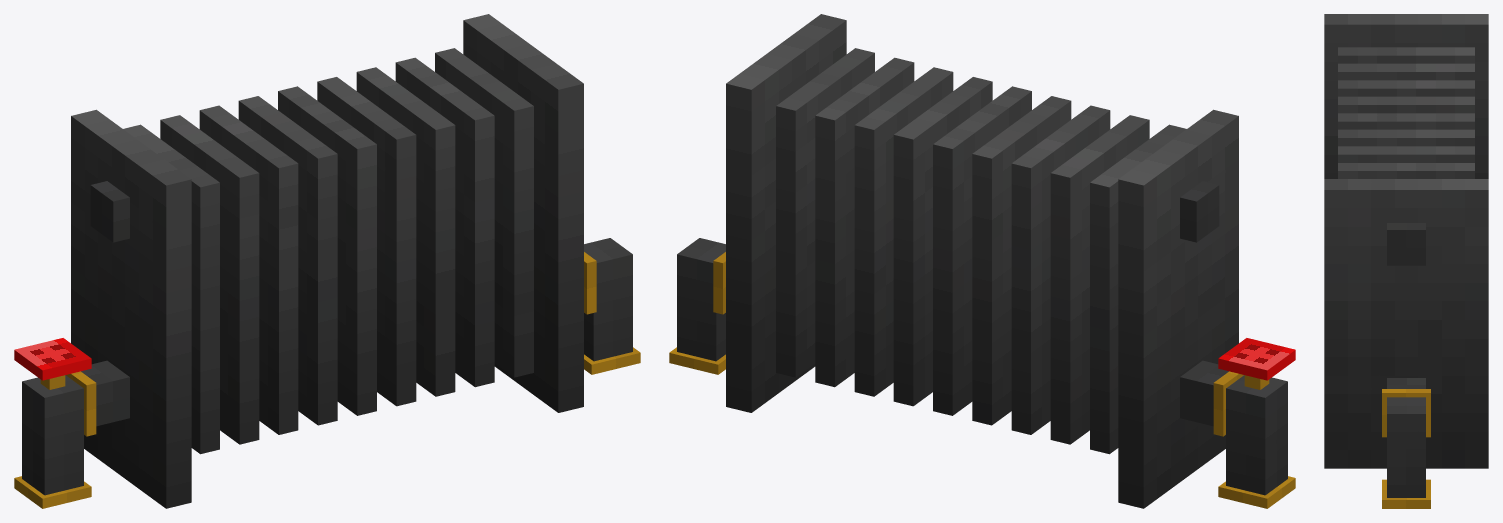
Rendered from radiator.obj.
3 views of the same model, side by side, from view 1: azimuth 30°, elevation 25°; view 2: azimuth 150°, elevation 25°; view 3: azimuth 270°, elevation 25° (orthographic). The views are drawn at different scales.
Parts seen in each view (by area): view 1: RibMain2, RibMain, Rib7, Rib8, Rib6, Rib4, Rib2, Rib3, Rib9, Rib5, Rib1, PipeV (+8 smaller); view 2: RibMain2, RibMain, Rib7, Rib8, Rib6, Rib4, Rib2, Rib3, Rib9, Rib5, Rib1, PipeV (+8 smaller); view 3: RibMain, RibMain2, PipeT, Rib2, Rib4, Rib6, Rib1, Rib3, Rib5, Rib7, Rib8, TopRod (+3 smaller).
Part boxes in pixels (x1,y1,x2,y2): RibMain2: [71, 109, 191, 508]; RibMain: [463, 14, 583, 412]; Rib7: [356, 67, 455, 396]; Rib8: [395, 57, 494, 387]; Rib6: [317, 77, 416, 406]; Rib4: [238, 96, 337, 425]; Rib2: [160, 115, 259, 444]; Rib3: [199, 105, 298, 434]; Rib9: [435, 48, 533, 377]; Rib5: [278, 86, 376, 415]; Rib1: [123, 124, 219, 454]; PipeV: [22, 375, 83, 495]; RibMain2: [1118, 109, 1238, 508]; RibMain: [726, 14, 846, 412]; Rib7: [854, 67, 953, 396]; Rib8: [815, 57, 914, 387]; Rib6: [893, 77, 992, 406]; Rib4: [972, 96, 1071, 425]; Rib2: [1050, 115, 1149, 444]; Rib3: [1011, 105, 1110, 434]; Rib9: [776, 48, 874, 377]; Rib5: [933, 86, 1031, 415]; Rib1: [1090, 124, 1186, 454]; PipeV: [1226, 375, 1287, 495]; RibMain: [1324, 179, 1488, 468]; RibMain2: [1324, 14, 1488, 178]; PipeT: [1387, 397, 1425, 497]; Rib2: [1338, 63, 1474, 80]; Rib4: [1338, 96, 1474, 113]; Rib6: [1338, 129, 1474, 146]; Rib1: [1338, 47, 1474, 63]; Rib3: [1338, 80, 1474, 96]; Rib5: [1338, 113, 1474, 129]; Rib7: [1338, 146, 1474, 162]; Rib8: [1338, 163, 1474, 178]; TopRod: [1387, 223, 1425, 265].
Bounding box in the file's own units: 1.91 × 0.9922 × 0.525.
